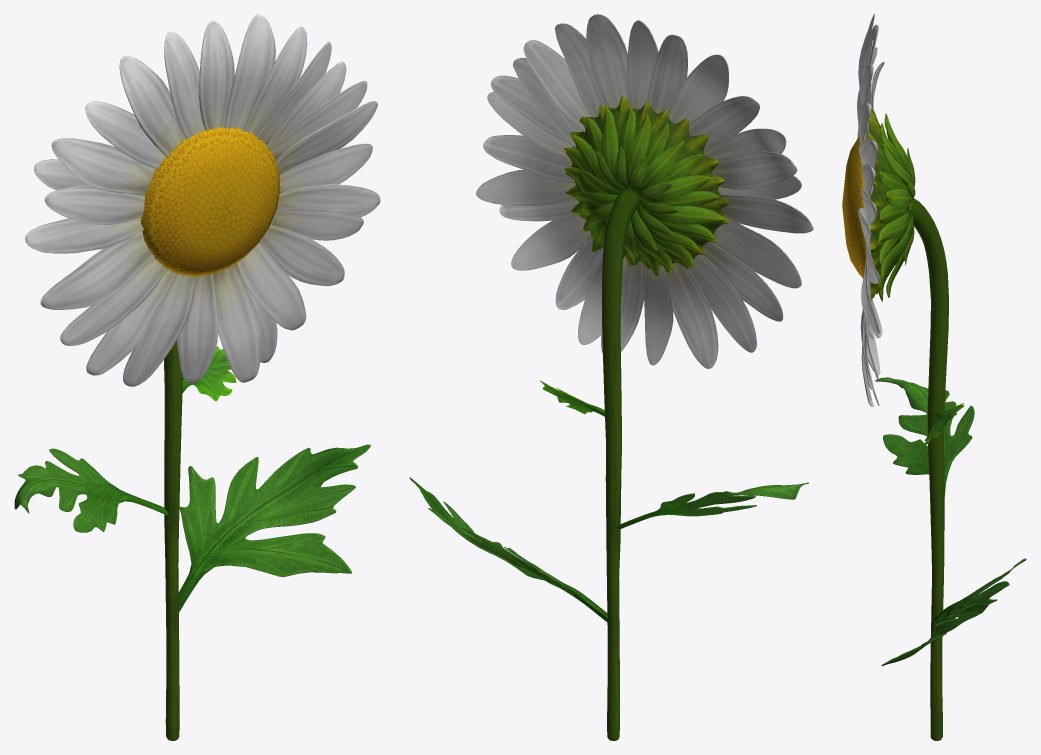
File: daisy.fbx
3 views of the same model, side by side, from view 1: azimuth 30°, elevation 25°; view 2: azimuth 150°, elevation 25°; view 3: azimuth 270°, elevation 25° (orthographic). The views are drawn at different scales.
Visible parts, largest first — view 1: node_id30; view 2: node_id30; view 3: node_id30.
Part boxes in pixels (x1,y1,x2,y2): node_id30: [14, 14, 380, 740]; node_id30: [409, 14, 813, 740]; node_id30: [842, 14, 1026, 740].
Size of the model in its own units: 147 by 269 by 64.23.
1 material, 1 textured.
